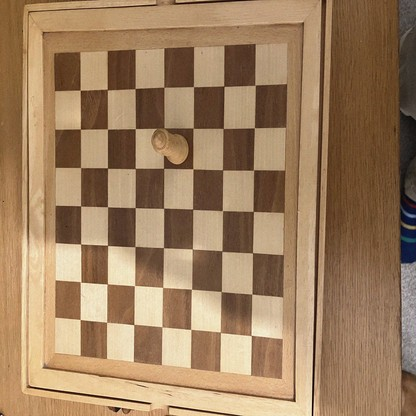queen_white: (152, 128, 188, 165)
